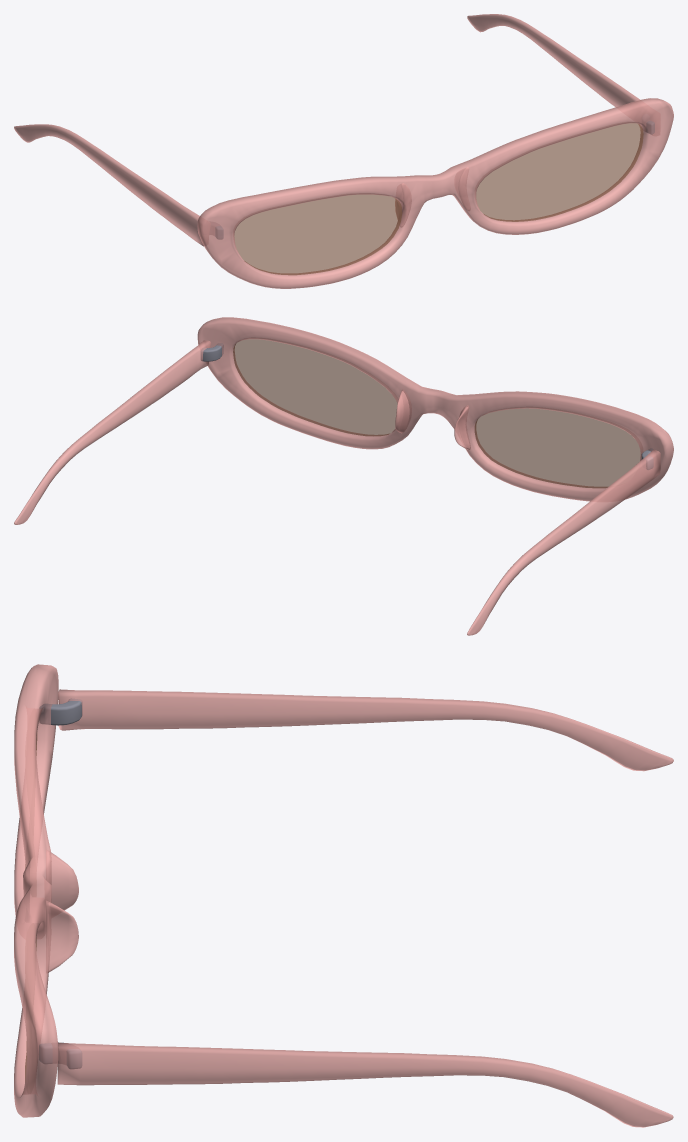
Rendered from jelly.glb.
3 renders of one model, top to bottom at view 1: azimuth 30°, elevation 25°; view 2: azimuth 150°, elevation 25°; view 3: azimuth 270°, elevation 25°, orthographic. The views are drawn at different scales.
Parts seen in each view (by area): view 1: model_7; view 2: model_7; view 3: model_7.
Part boxes in pixels (box(x1,y1,x2,y2)): model_7: box(14, 14, 673, 288); model_7: box(14, 317, 673, 635); model_7: box(14, 664, 673, 1127).
Size of the model in its own units: 2.24 by 0.4582 by 1.68.
